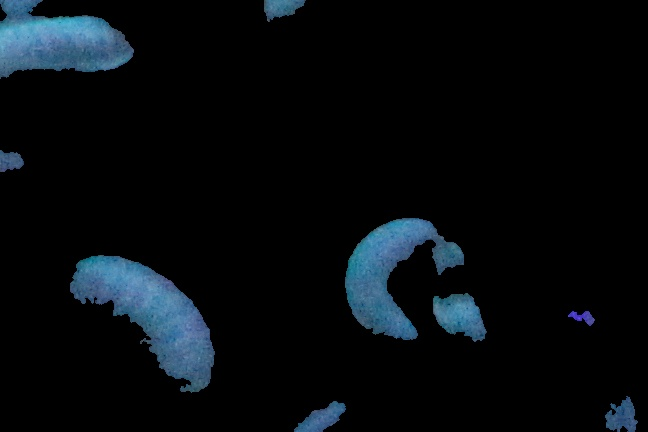larvae: (50, 240, 228, 415), (324, 192, 437, 365), (420, 228, 510, 366), (1, 20, 147, 94)
